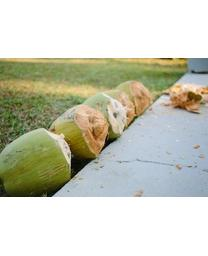coconut: (1, 121, 73, 195), (47, 103, 109, 161), (78, 94, 129, 140), (117, 80, 152, 113), (105, 91, 136, 126)
